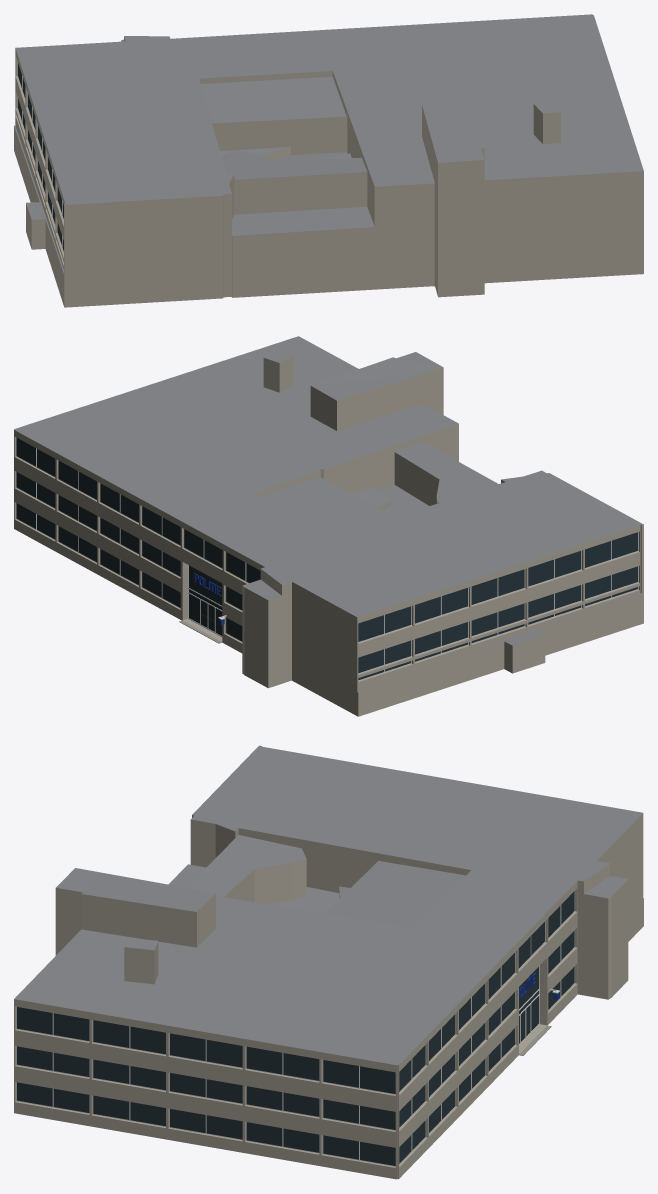
Rendered from recipe-large-politie-boven-ij.glb.
3 renders of one model, top to bottom at view 1: azimuth 30°, elevation 25°; view 2: azimuth 150°, elevation 25°; view 3: azimuth 270°, elevation 25°, orthographic. The views are drawn at different scales.
Parts seen in each view (by area): view 1: politie-boven-ij; view 2: politie-boven-ij; view 3: politie-boven-ij.
Part boxes in pixels (x1,y1,x2,y2): politie-boven-ij: (14, 14, 643, 307); politie-boven-ij: (14, 336, 643, 716); politie-boven-ij: (14, 745, 643, 1179).
Bounding box in the file's own units: 54.81 × 11.95 × 45.58.
